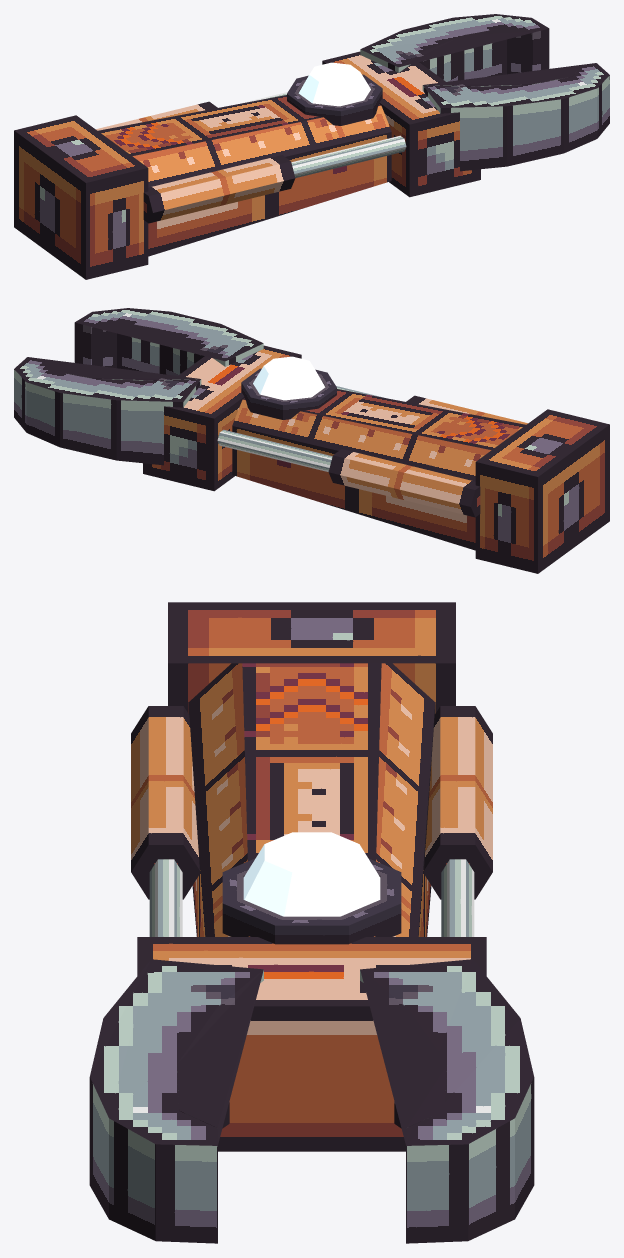
The model's file is claw.glb.
3 renders of one model, top to bottom at view 1: azimuth 30°, elevation 25°; view 2: azimuth 150°, elevation 25°; view 3: azimuth 270°, elevation 25°, orthographic. The views are drawn at different scales.
Parts seen in each view (by area): view 1: arm, jaw_r, jaw_l, glow; view 2: arm, jaw_l, jaw_r, glow; view 3: arm, jaw_l, jaw_r, glow.
Boxes of the visible parts, x1,y1,x2,y2 form: arm: (14,51,480,279); jaw_r: (422,63,609,171); jaw_l: (360,14,549,81); glow: (298,62,370,106); arm: (143,345,609,573); jaw_l: (14,357,201,465); jaw_r: (74,308,263,375); glow: (253,356,325,400); arm: (131,602,492,1151); jaw_l: (360,959,534,1243); jaw_r: (89,959,263,1243); glow: (243,832,380,916).
Bounding box in the file's own units: 0.5876 × 0.119 × 0.2162.
2 materials, 1 textured.
